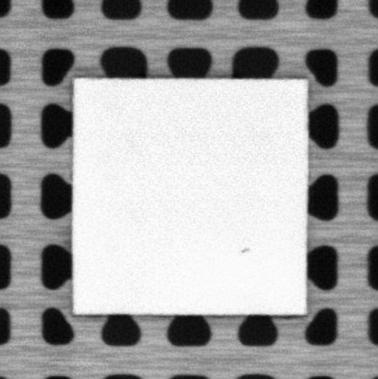DIE_INK: (239, 245, 251, 254)
